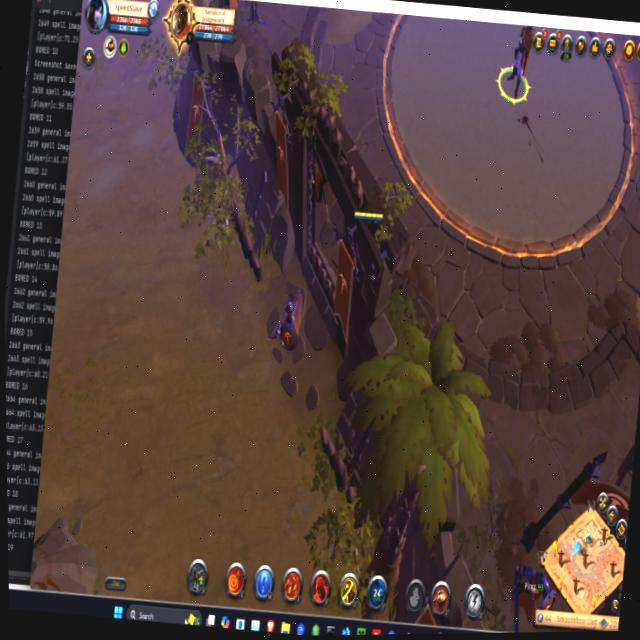red: (345, 204, 395, 294)
